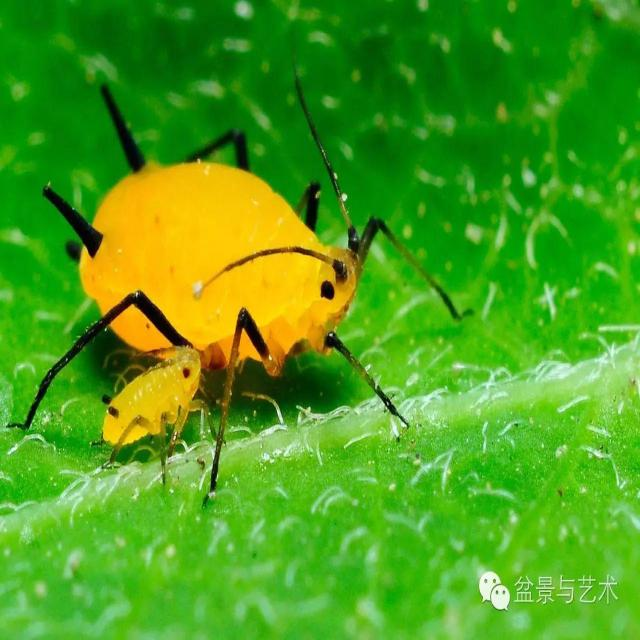Aphids: (37, 64, 457, 452), (96, 329, 206, 476)
